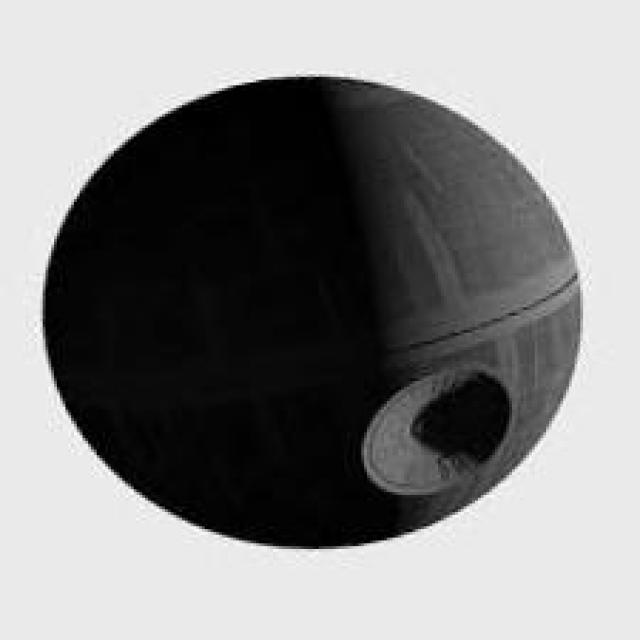deathstar: (45, 79, 580, 546)
